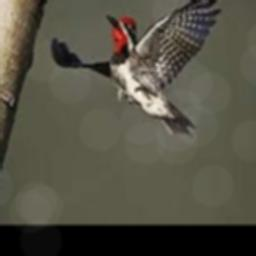Woodpecker: (51, 0, 222, 136)
